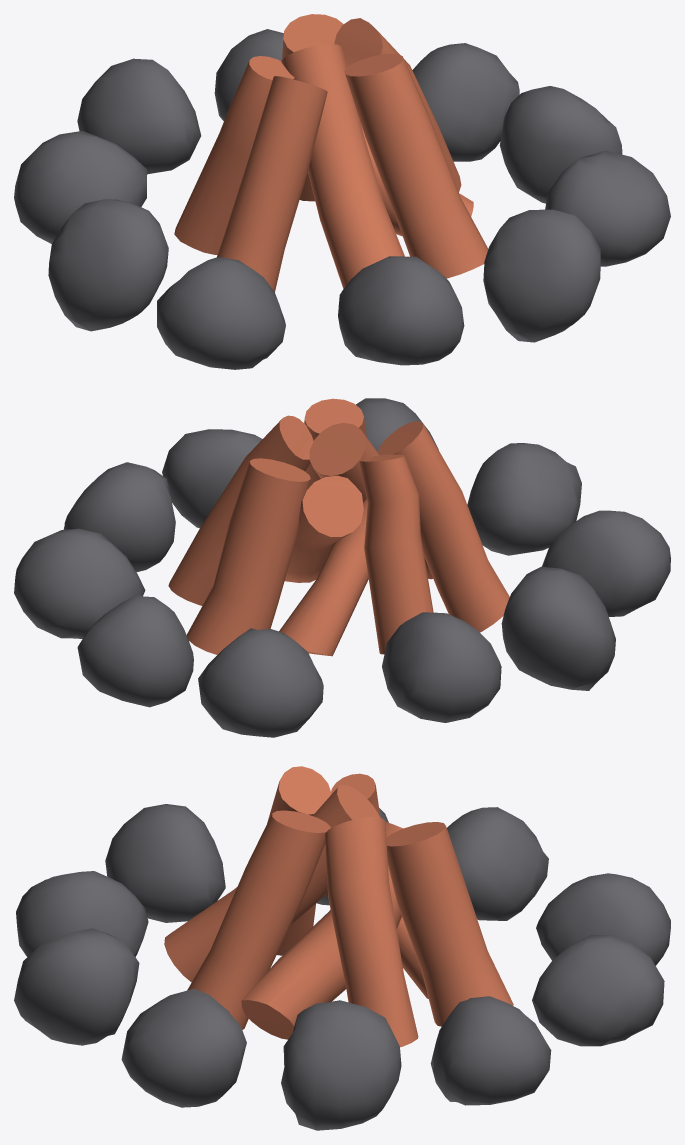
File: Fogueira.fbx
3 views of the same model, one above another, from view 1: azimuth 30°, elevation 25°; view 2: azimuth 150°, elevation 25°; view 3: azimuth 270°, elevation 25° (orthographic). The views are drawn at different scales.
Visible parts, largest first — view 1: Lenha.retopo.005, Lenha.retopo.004, Pedra.retopo.004, Pedra.retopo.005, Lenha.retopo.006, Pedra.retopo.007, Pedra.retopo.006, Pedra.retopo.009, Pedra.retopo.008, Pedra.retopo.003, Pedra.retopo, Pedra.retopo.001 (+5 smaller); view 2: Lenha.retopo, Pedra.retopo.005, Lenha.retopo.006, Pedra.retopo.009, Pedra.retopo.008, Pedra.retopo.001, Pedra.retopo.007, Lenha.retopo.003, Pedra.retopo.002, Pedra.retopo.006, Pedra.retopo, Lenha.retopo.002 (+6 smaller); view 3: Lenha.retopo, Lenha.retopo.005, Lenha.retopo.002, Pedra.retopo, Pedra.retopo.002, Pedra.retopo.004, Pedra.retopo.003, Pedra.retopo.006, Pedra.retopo.001, Pedra.retopo.008, Pedra.retopo.009, Pedra.retopo.007 (+5 smaller).
Part boxes in pixels (box(x1,y1,x2,y2)): Lenha.retopo.005: box(344, 54, 488, 278); Lenha.retopo.004: box(281, 44, 404, 288); Pedra.retopo.004: box(483, 209, 600, 342); Pedra.retopo.005: box(48, 199, 168, 331); Lenha.retopo.006: box(217, 76, 327, 292); Pedra.retopo.007: box(338, 256, 464, 365); Pedra.retopo.006: box(157, 257, 285, 369); Pedra.retopo.009: box(77, 58, 201, 174); Pedra.retopo.008: box(14, 131, 147, 243); Pedra.retopo.003: box(545, 150, 670, 266); Pedra.retopo: box(499, 86, 622, 203); Pedra.retopo.001: box(412, 43, 519, 161); Lenha.retopo: box(187, 458, 310, 654); Pedra.retopo.005: box(501, 566, 615, 690); Lenha.retopo.006: box(378, 421, 509, 632); Pedra.retopo.009: box(198, 628, 323, 737); Pedra.retopo.008: box(382, 612, 501, 722); Pedra.retopo.001: box(14, 528, 145, 638); Pedra.retopo.007: box(467, 443, 581, 555); Lenha.retopo.003: box(359, 454, 433, 654); Pedra.retopo.002: box(77, 594, 193, 707); Pedra.retopo.006: box(542, 510, 670, 616); Pedra.retopo: box(63, 462, 175, 572); Lenha.retopo.002: box(168, 415, 313, 605); Lenha.retopo: box(386, 822, 513, 1026); Lenha.retopo.005: box(187, 810, 330, 1029); Lenha.retopo.002: box(325, 816, 418, 1047); Pedra.retopo: box(281, 1000, 401, 1130); Pedra.retopo.002: box(532, 935, 664, 1046); Pedra.retopo.004: box(14, 928, 139, 1045); Pedra.retopo.003: box(121, 988, 246, 1107); Pedra.retopo.006: box(105, 804, 225, 922); Pedra.retopo.001: box(430, 996, 551, 1105); Pedra.retopo.008: box(447, 807, 548, 920); Pedra.retopo.009: box(536, 873, 670, 965); Pedra.retopo.007: box(16, 871, 148, 956).
Bounding box in the file's own units: 81.72 × 31.01 × 83.86.
